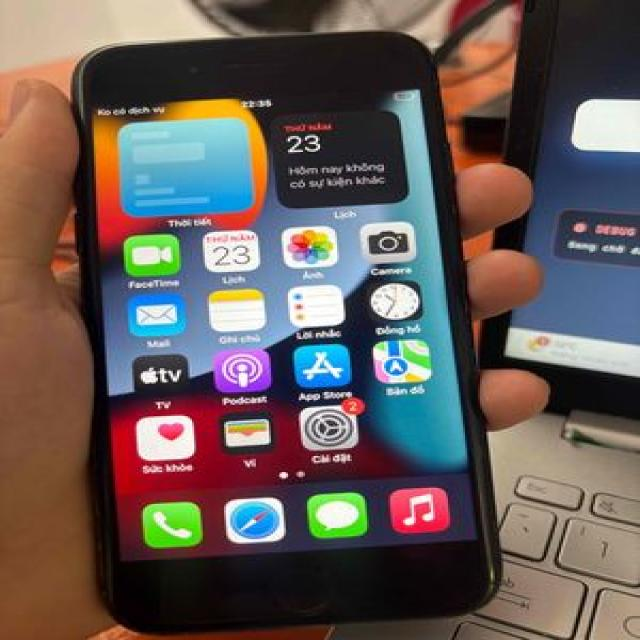gen_7_8: (49, 27, 501, 632)
